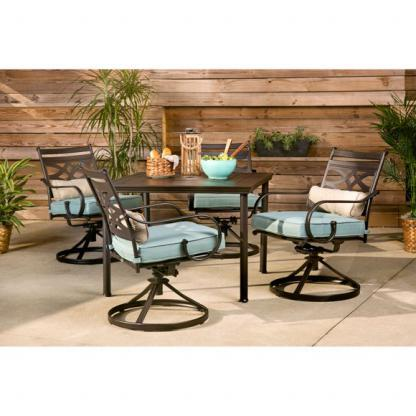table: (96, 163, 278, 307)
